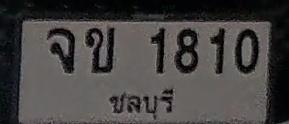0: (234, 28, 258, 73)
1: (151, 27, 166, 73), (210, 27, 225, 73)
8: (175, 27, 198, 72)
A02: (86, 26, 114, 72)
A08: (47, 26, 75, 72)
CBI: (102, 82, 180, 120)
